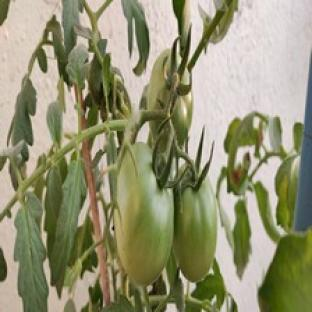Tomato: (115, 143, 174, 285), (173, 177, 217, 282), (148, 49, 171, 110)
